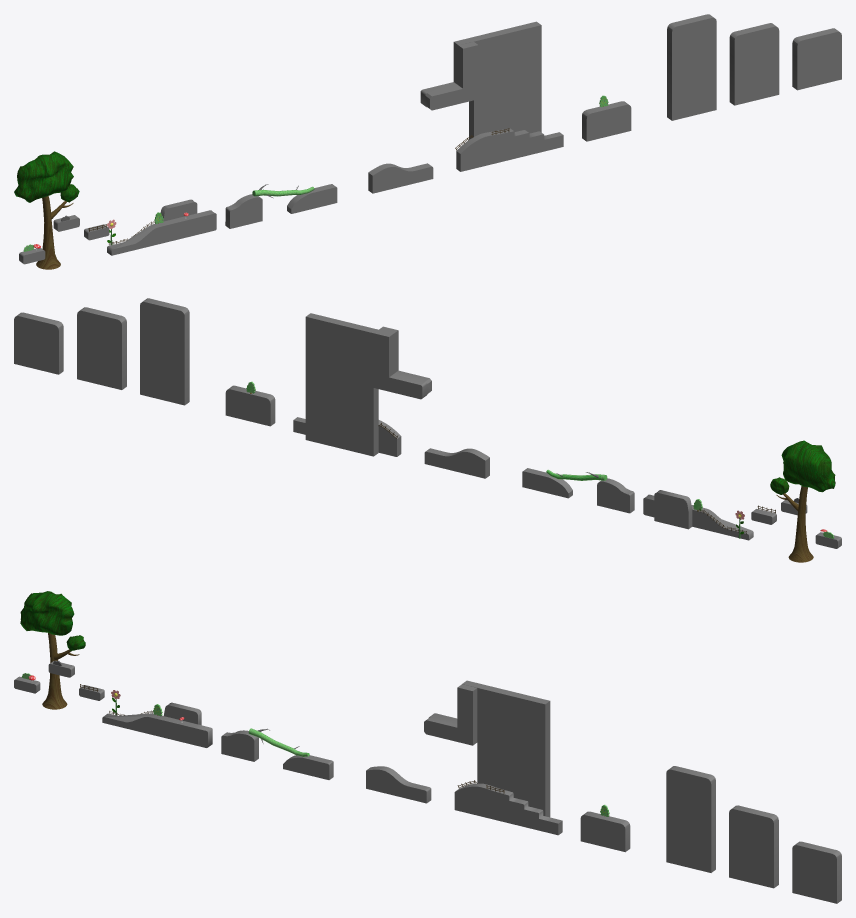
The model's file is worldbuild2.fbx.
3 views of the same model, one above another, from view 1: azimuth 30°, elevation 25°; view 2: azimuth 150°, elevation 25°; view 3: azimuth 330°, elevation 25° (orthographic).
Parts seen in each view (by area): view 1: Level_build7beta_pCube4, pasted__pasted__pCube3, pasted__pasted__pCube3_ncl1_1, Bigtree1_polySurface4, Level_build7beta_pCube2, pasted__pCube3, polySurface9, Level_build7beta_pCube3, Level_build7beta_pCube1, pCube3, pCube4; view 2: Level_build7beta_pCube4, pasted__pasted__pCube3, pasted__pasted__pCube3_ncl1_1, Bigtree1_polySurface4, pasted__pCube3, polySurface9, Level_build7beta_pCube3, Level_build7beta_pCube1, pCube3, pCube4, Level_build7beta_pCube2; view 3: Level_build7beta_pCube4, pasted__pasted__pCube3, pasted__pasted__pCube3_ncl1_1, Bigtree1_polySurface4, Level_build7beta_pCube2, pasted__pCube3, polySurface9, Level_build7beta_pCube3, Level_build7beta_pCube1, pCube3, pCube4.
Boxes of the visible parts, <box> form: Level_build7beta_pCube4: <box>420,21,541,139</box>; pasted__pasted__pCube3: <box>667,14,716,120</box>; pasted__pasted__pCube3_ncl1_1: <box>729,23,779,105</box>; Bigtree1_polySurface4: <box>14,151,79,269</box>; Level_build7beta_pCube2: <box>456,128,563,171</box>; pasted__pCube3: <box>792,28,841,90</box>; polySurface9: <box>107,199,216,255</box>; Level_build7beta_pCube3: <box>582,101,631,141</box>; Level_build7beta_pCube1: <box>368,163,433,193</box>; pCube3: <box>225,194,262,228</box>; pCube4: <box>287,184,337,213</box>; Level_build7beta_pCube4: <box>305,313,431,456</box>; pasted__pasted__pCube3: <box>140,298,189,405</box>; pasted__pasted__pCube3_ncl1_1: <box>77,307,126,389</box>; Bigtree1_polySurface4: <box>770,440,835,562</box>; pasted__pCube3: <box>14,312,63,374</box>; polySurface9: <box>643,490,753,540</box>; Level_build7beta_pCube3: <box>225,385,275,426</box>; Level_build7beta_pCube1: <box>424,448,489,478</box>; pCube3: <box>597,478,634,513</box>; pCube4: <box>522,468,572,498</box>; Level_build7beta_pCube2: <box>293,417,401,456</box>; Level_build7beta_pCube4: <box>424,680,550,817</box>; pasted__pasted__pCube3: <box>666,766,715,872</box>; pasted__pasted__pCube3_ncl1_1: <box>729,805,778,888</box>; Bigtree1_polySurface4: <box>20,591,85,709</box>; Level_build7beta_pCube2: <box>454,783,562,835</box>; pasted__pCube3: <box>792,841,841,903</box>; polySurface9: <box>102,702,212,747</box>; Level_build7beta_pCube3: <box>580,811,630,852</box>; Level_build7beta_pCube1: <box>366,766,431,803</box>; pCube3: <box>221,730,258,761</box>; pCube4: <box>283,755,333,779</box>.
Bounding box in the file's own units: 305 × 43.63 × 12.37.
Materials: 11 (8 with a texture image).
